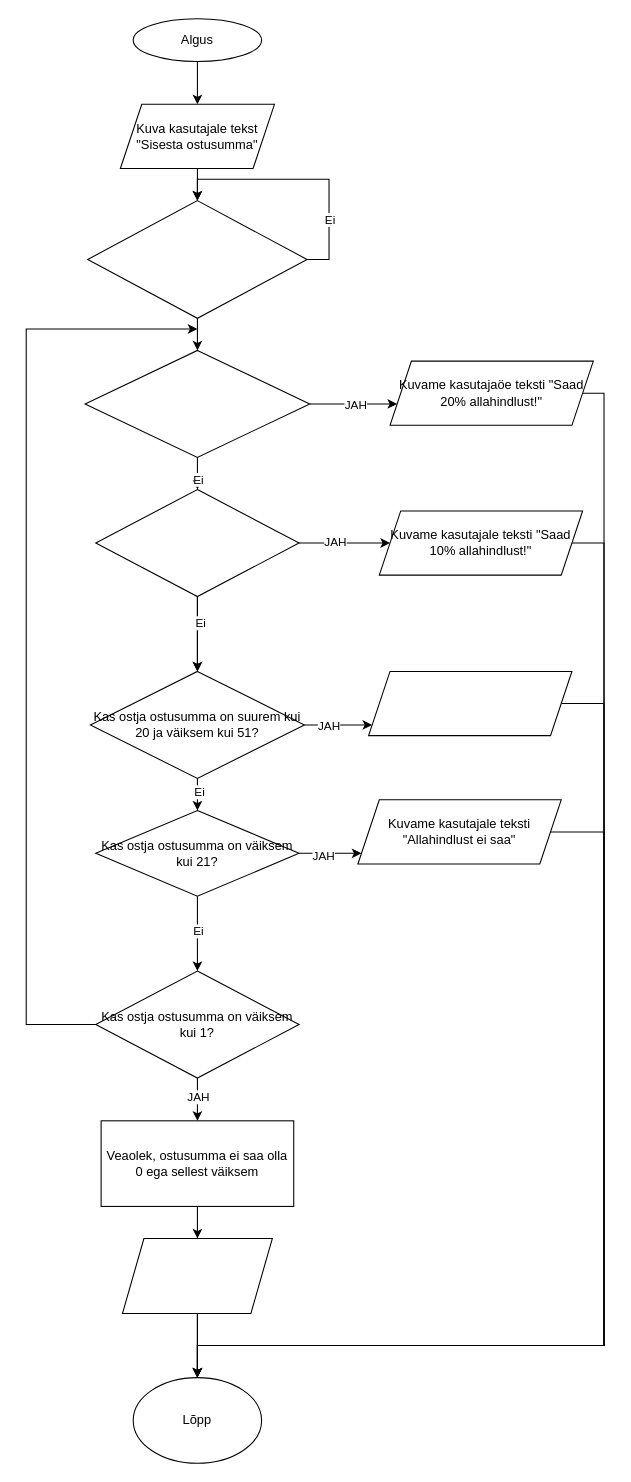
The diagram is 631 pixels wide and 1482 high, and some of its shapes have lost their labels. The centre of each missing label's shape, as x and y in pixels:
Kas ostja ostusumma on suurem kui 100?: point (197, 403)
Kas ostja ostusumma on suurem kui 50 ja väiksem kui 101?: point (197, 542)
Kas teller on sisestanud ostja ostusumma?: point (197, 259)
Kuva tekst "Sisestatud vigane arv": point (196, 1275)
Kuvame kasutajale teksti "Saad 5% allahindlust!": point (470, 703)
